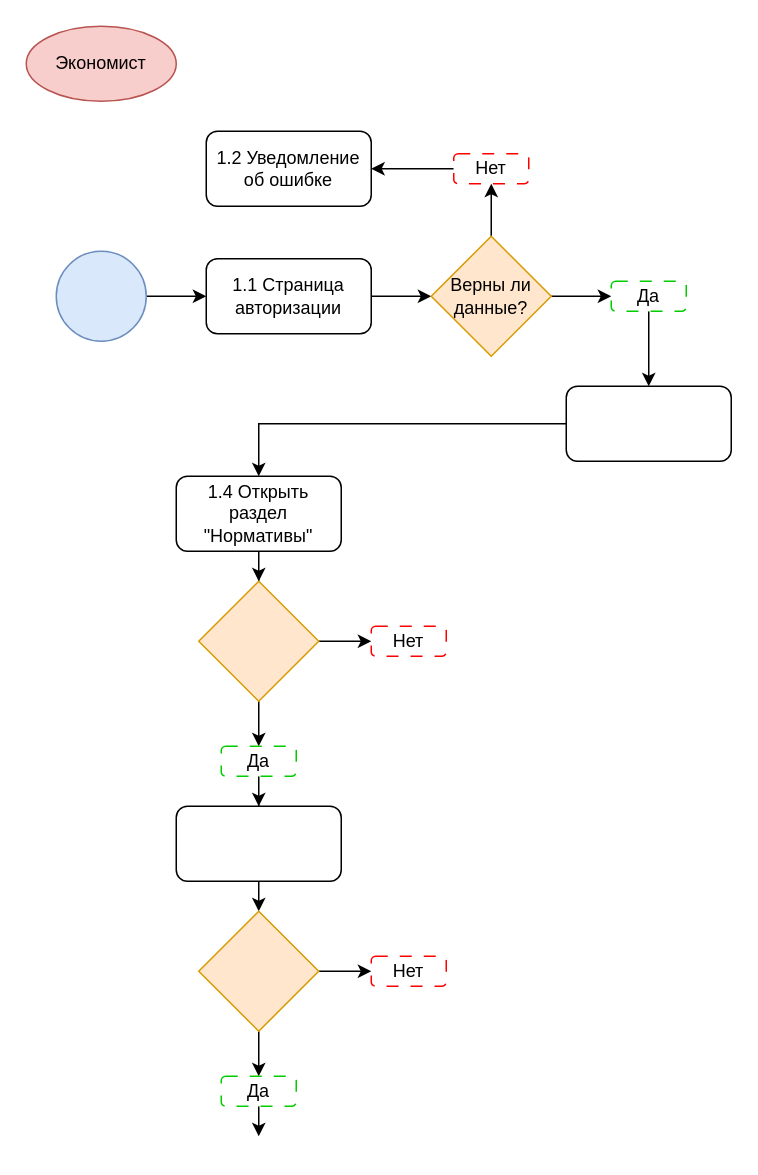
This 758x1175 diagram has some shape labels left out. Each missing label, with the box of its shape:
1.3 Главная панель: (565, 385, 731, 461)
1.5 Просмотреть активные нормативы: (175, 805, 341, 881)
Добавить норматив?: (197, 910, 319, 1031)
Просмотреть список?: (197, 580, 319, 701)
Старт: (55, 250, 146, 341)
